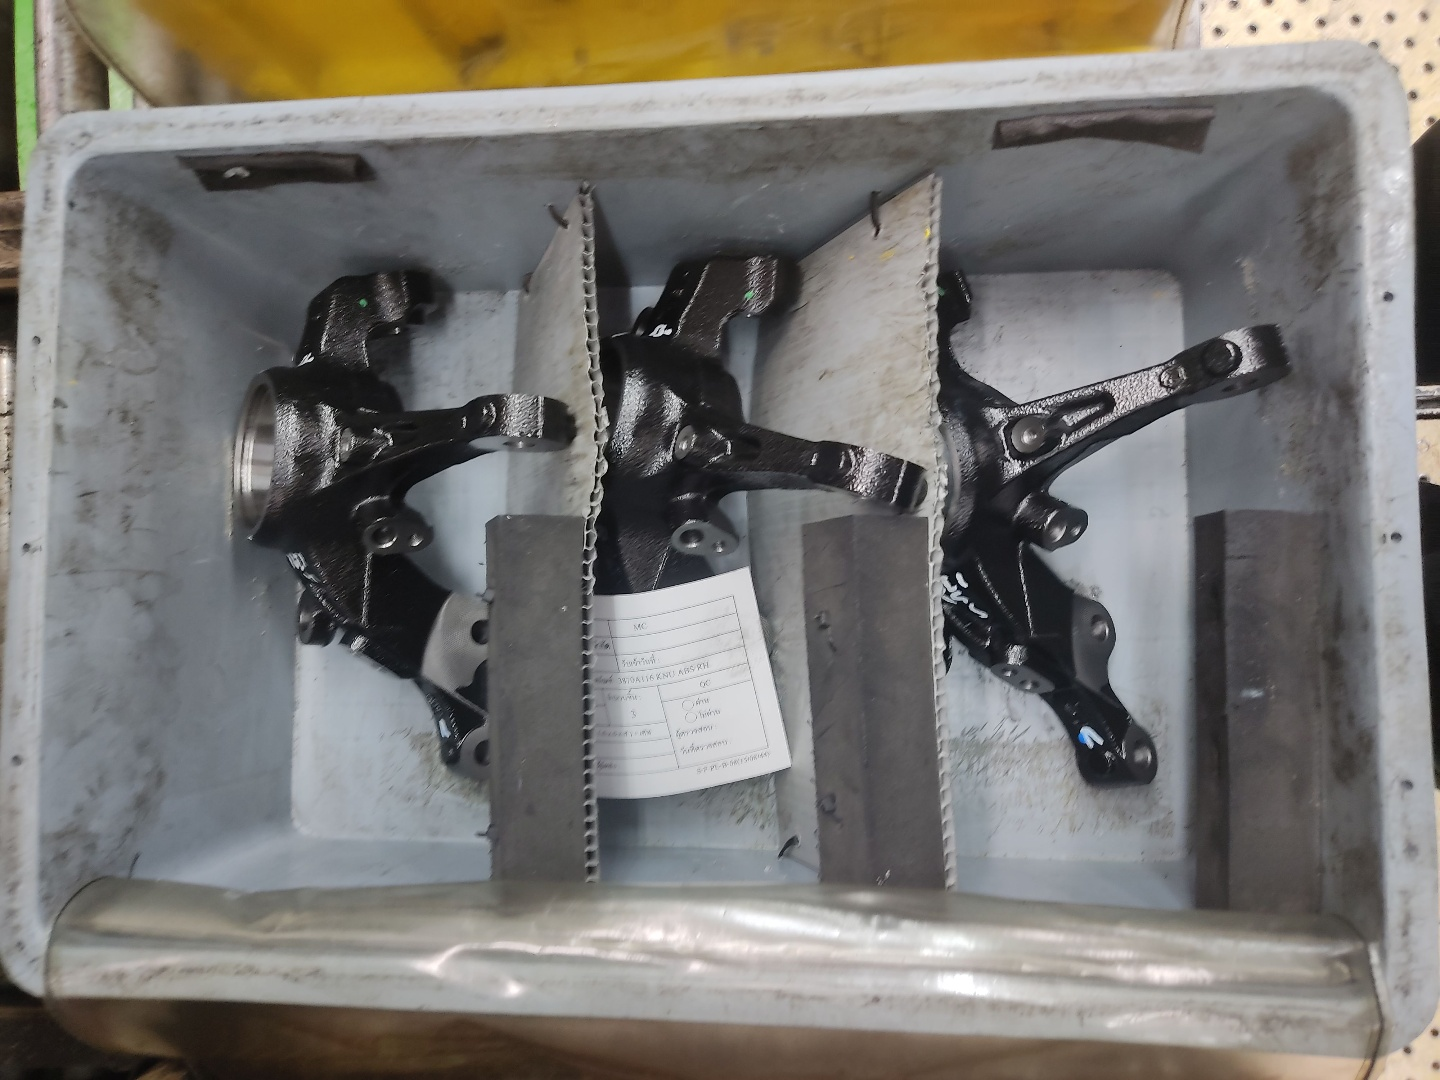abs-rh: (924, 246, 1294, 803), (214, 259, 581, 815), (587, 243, 926, 813)
